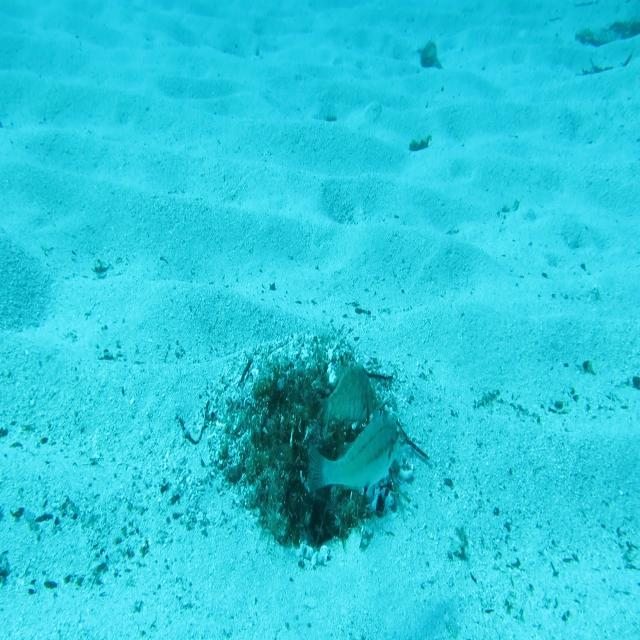MAN: (317, 354, 377, 438)
core_nest: (280, 383, 326, 422)
female: (306, 409, 404, 499)
nest: (208, 329, 422, 583)
vegetation: (569, 17, 640, 53), (417, 41, 444, 75), (406, 135, 430, 157)
